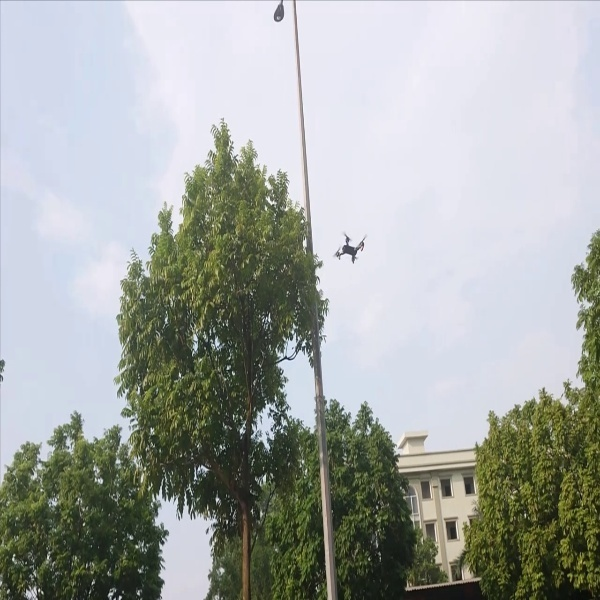drone: (328, 228, 376, 266)
